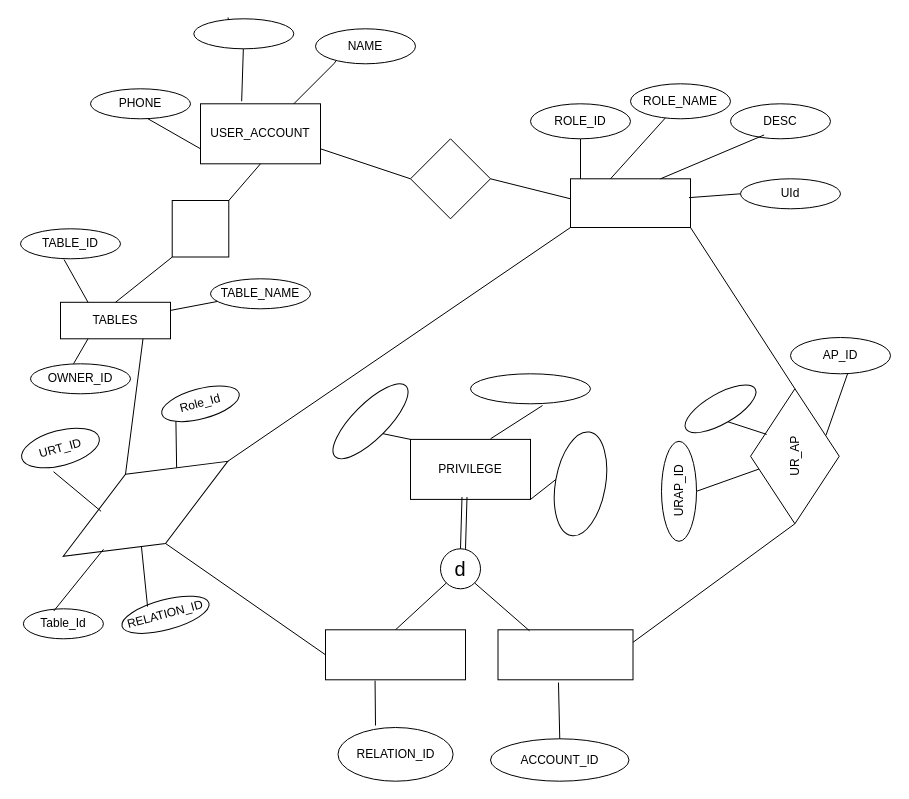
Image size: 909x799. Some labels were removed from this diagram. Each missing label, with the centre of its shape:
"ACCOUNT_PRIVILEGE" goes at point 565,654.
"HAS_ROLE" goes at point 450,178.
"OWNS_TABLE" goes at point 200,228.
"PRIVILEGE_ID" goes at point 370,420.
"PRIVILEGE_NAME" goes at point 530,388.
"PRIVILEGE_TYPE" goes at point 580,483.
"RELATION_PRIVILEGE" goes at point 395,654.
"RoleId" goes at point 720,408.
"UID_NO" goes at point 243,33.
"USER_RELATION_TABLE" goes at point 145,508.
"USER_ROLES" goes at point 630,203.
